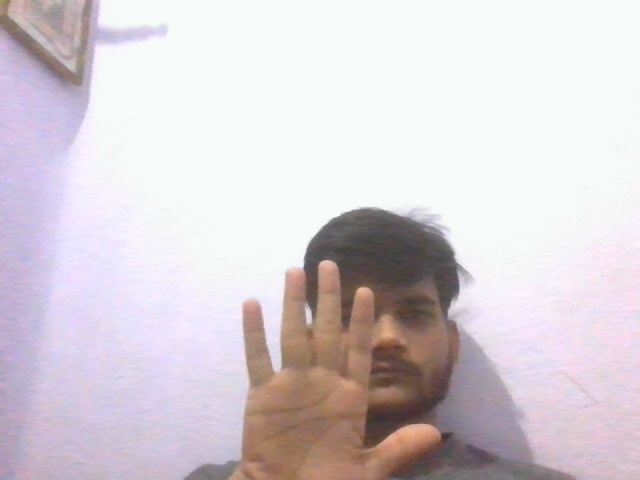hello: (232, 254, 461, 480)
